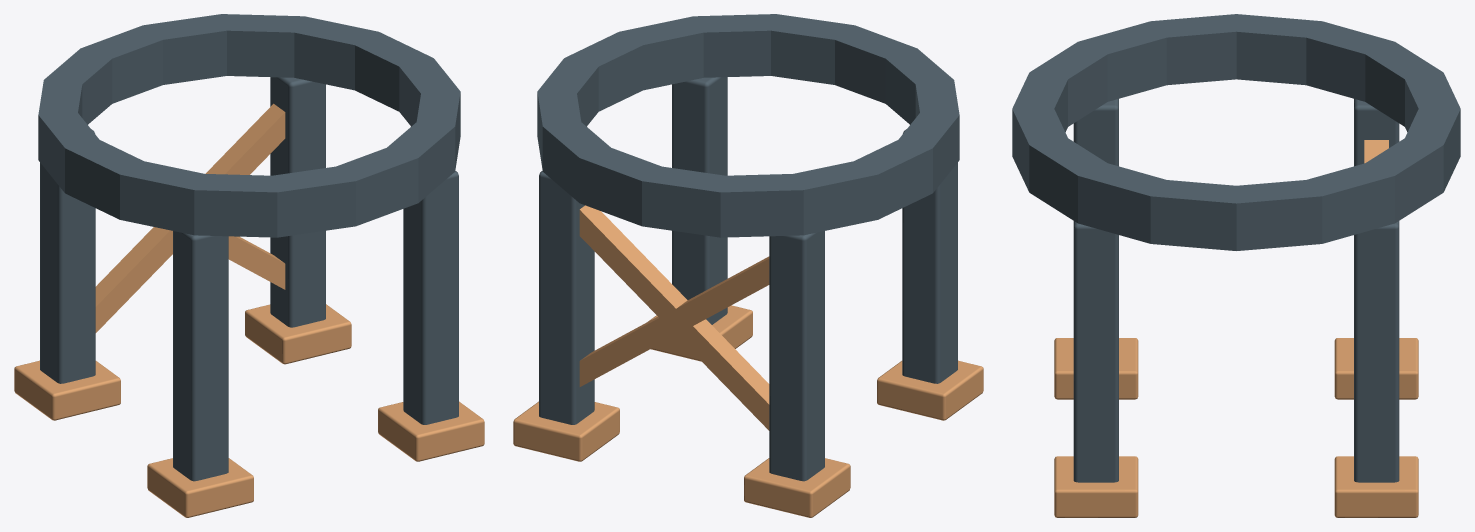
The model's file is dwarven-runeforge-dungeon-dwarven-runeforge-dungeon-cr-6ea51b39__28598.glb.
3 renders of one model, left to right at view 1: azimuth 30°, elevation 25°; view 2: azimuth 150°, elevation 25°; view 3: azimuth 270°, elevation 25°, orthographic. The views are drawn at different scales.
Parts seen in each view (by area): view 1: dwarven-runeforge-dungeon-crucible-stand; view 2: dwarven-runeforge-dungeon-crucible-stand; view 3: dwarven-runeforge-dungeon-crucible-stand.
Boxes of the visible parts, x1,y1,x2,y2 form: dwarven-runeforge-dungeon-crucible-stand: [14, 14, 484, 517]; dwarven-runeforge-dungeon-crucible-stand: [513, 14, 983, 517]; dwarven-runeforge-dungeon-crucible-stand: [1012, 14, 1460, 517].
Bounding box in the file's own units: 1.28 × 1.05 × 1.28.
